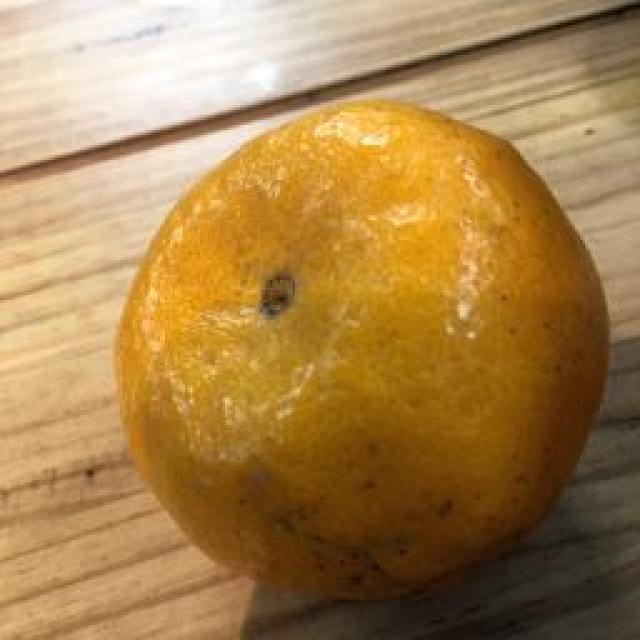Wet: (105, 95, 615, 605)
